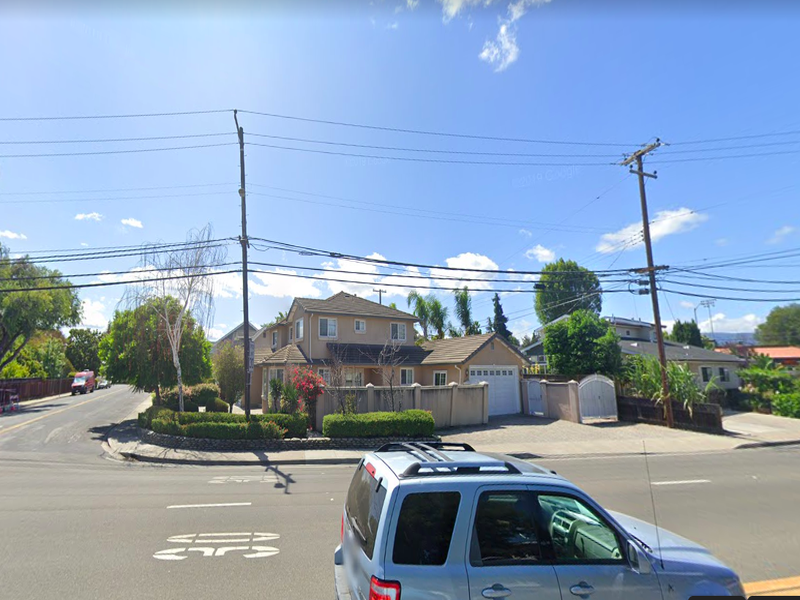utility_pole: (613, 129, 666, 195), (223, 98, 256, 180)
